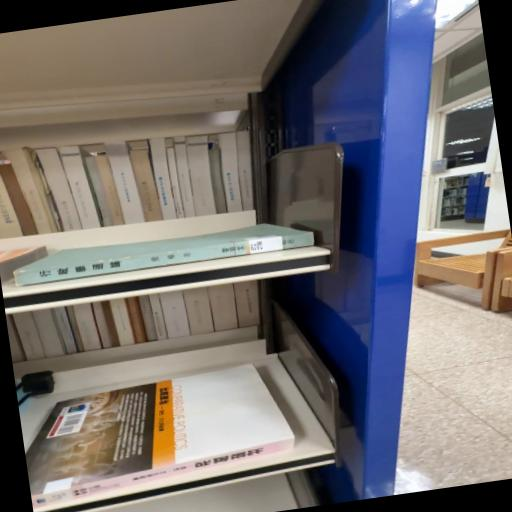flat: (26, 365, 296, 510), (14, 225, 315, 288)
